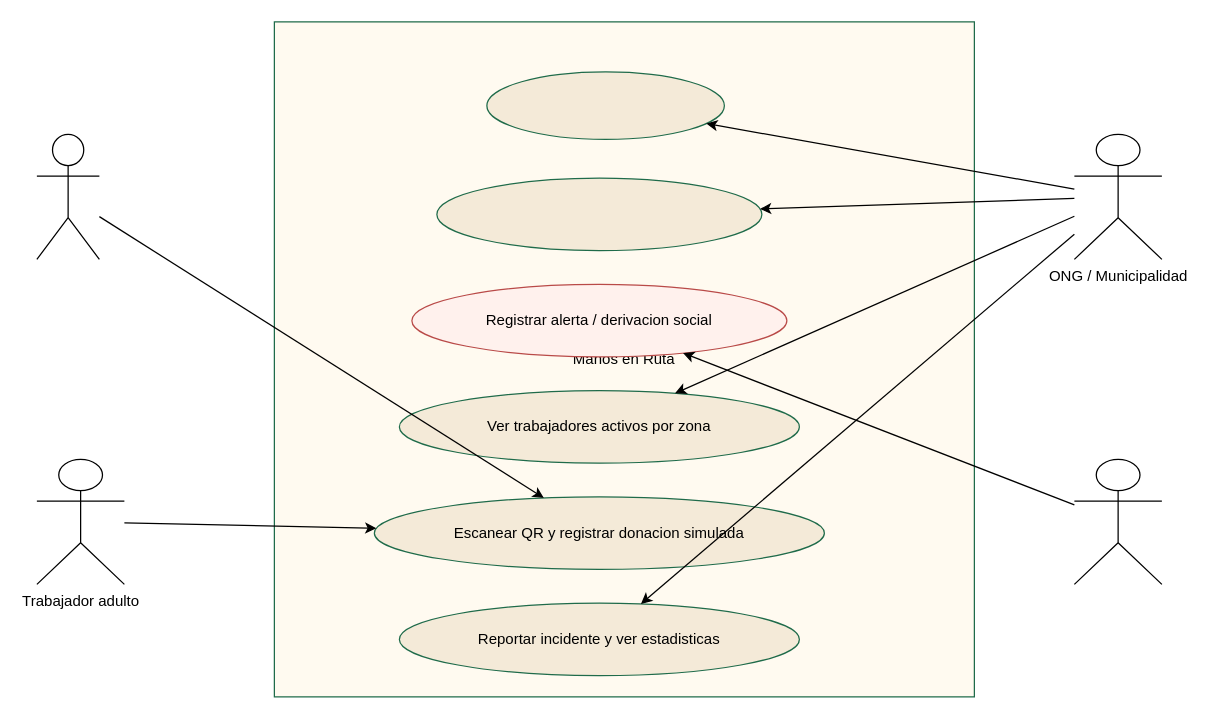
Some shapes in this 1209 by 719 pixel diagram are drawn without their labels. The centre of each missing label's shape, as x and y in pixels:
Conductor: pixel 67 196
Iniciar sesion: pixel 605 105
Menor detectado: pixel 1117 521
Registrar trabajador adulto: pixel 599 214
